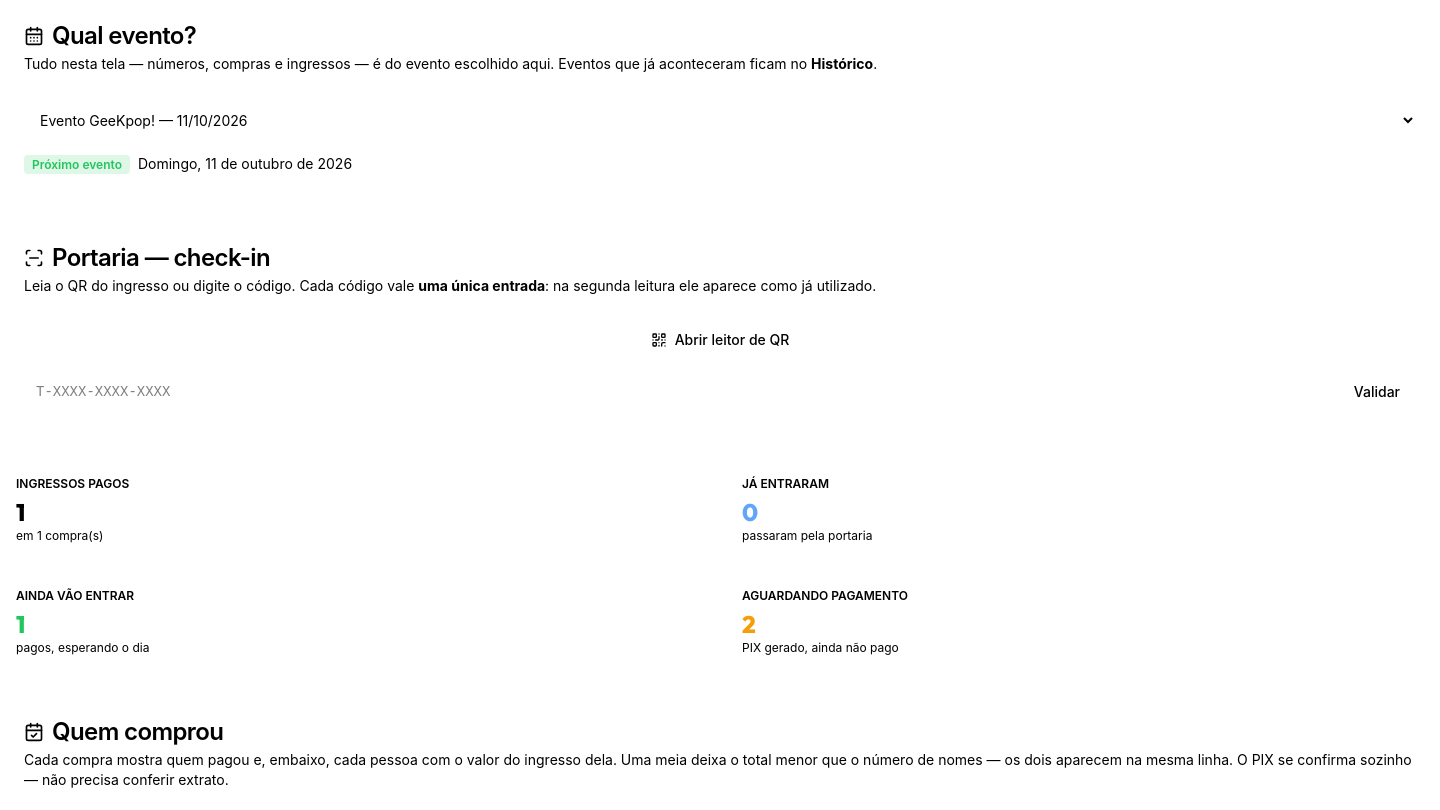
Test: EventTicketsTab › no histórico, esconde a portaria e mostra quem não compareceu
The width and height of the screenshot is (1440, 810).
Select "Photocard Trading — 20/09/2026" in the dropdown named "Evento" at (720,120), box 24,98 -> 1416,142
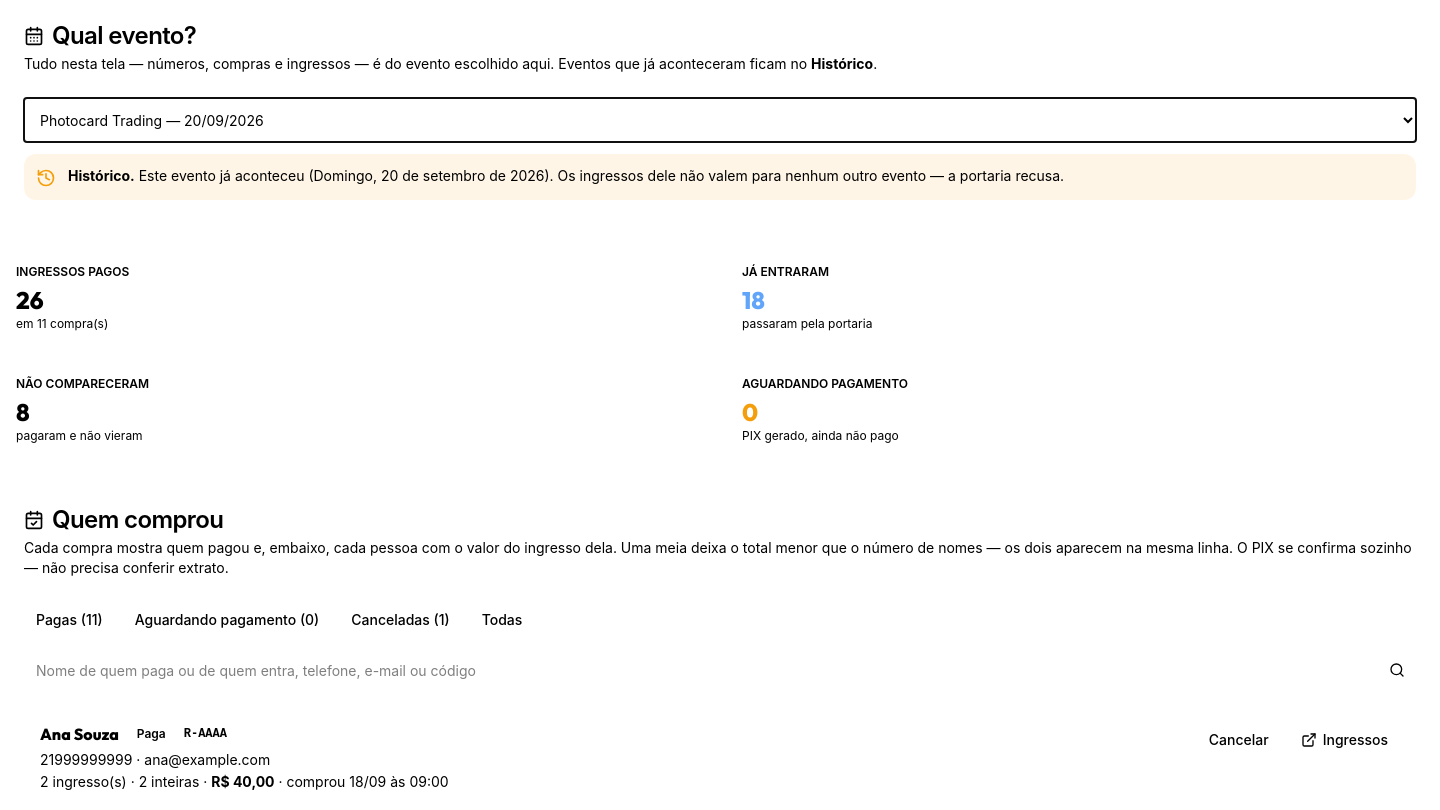
Expected: the text "Não compareceram" is shown, 16,376 -> 149,391
Expected: the text "26" is shown, 16,285 -> 44,315
Expected: the message shows "Este evento já aconteceu", 135,167 -> 314,184
